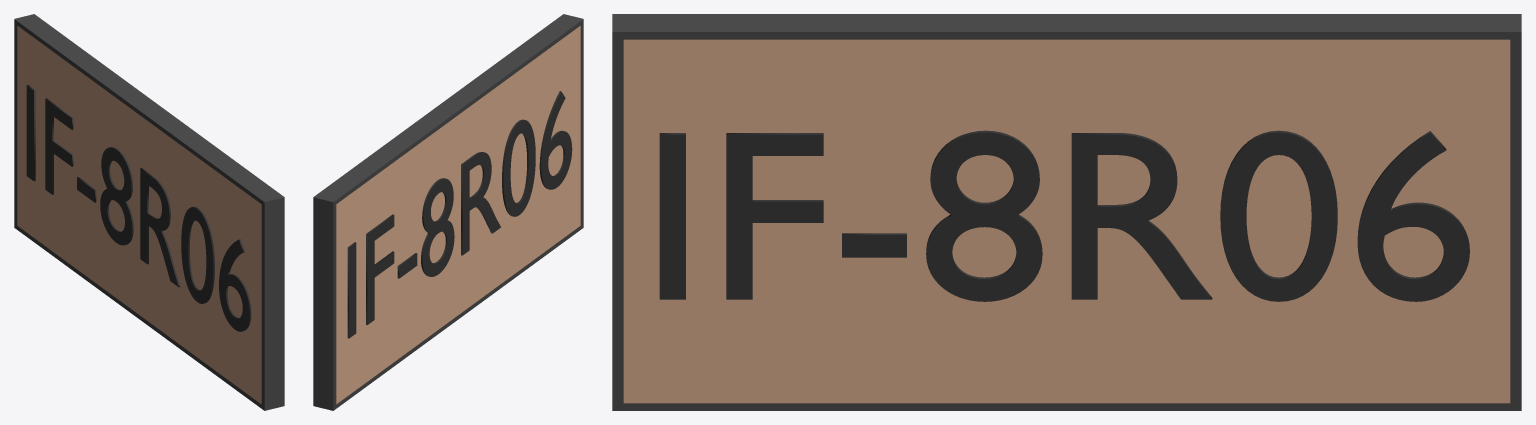
The picture shows the model from 3 angles, left to right: view 1: azimuth 30°, elevation 25°; view 2: azimuth 150°, elevation 25°; view 3: azimuth 270°, elevation 25°; orthographic projection. The views are drawn at different scales.
Visible parts, largest first — view 1: Cube, Text.001; view 2: Cube, Text.001; view 3: Cube, Text.
Part boxes in pixels (<box>): Cube: <box>14,14,284,410</box>; Text.001: <box>26,85,251,331</box>; Cube: <box>313,14,583,410</box>; Text.001: <box>347,91,572,338</box>; Cube: <box>612,14,1521,410</box>; Text: <box>659,130,1469,301</box>.
Bounding box in the file's own units: 12.6 × 105 × 229.
